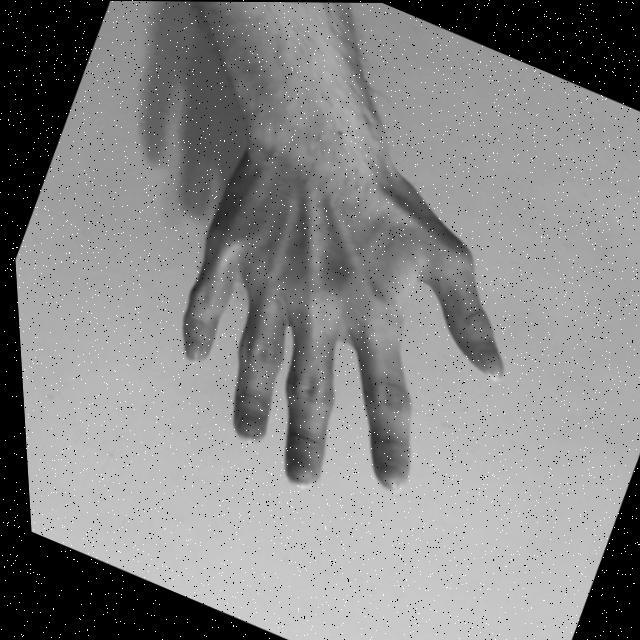no-gloves: (115, 116, 564, 549)
